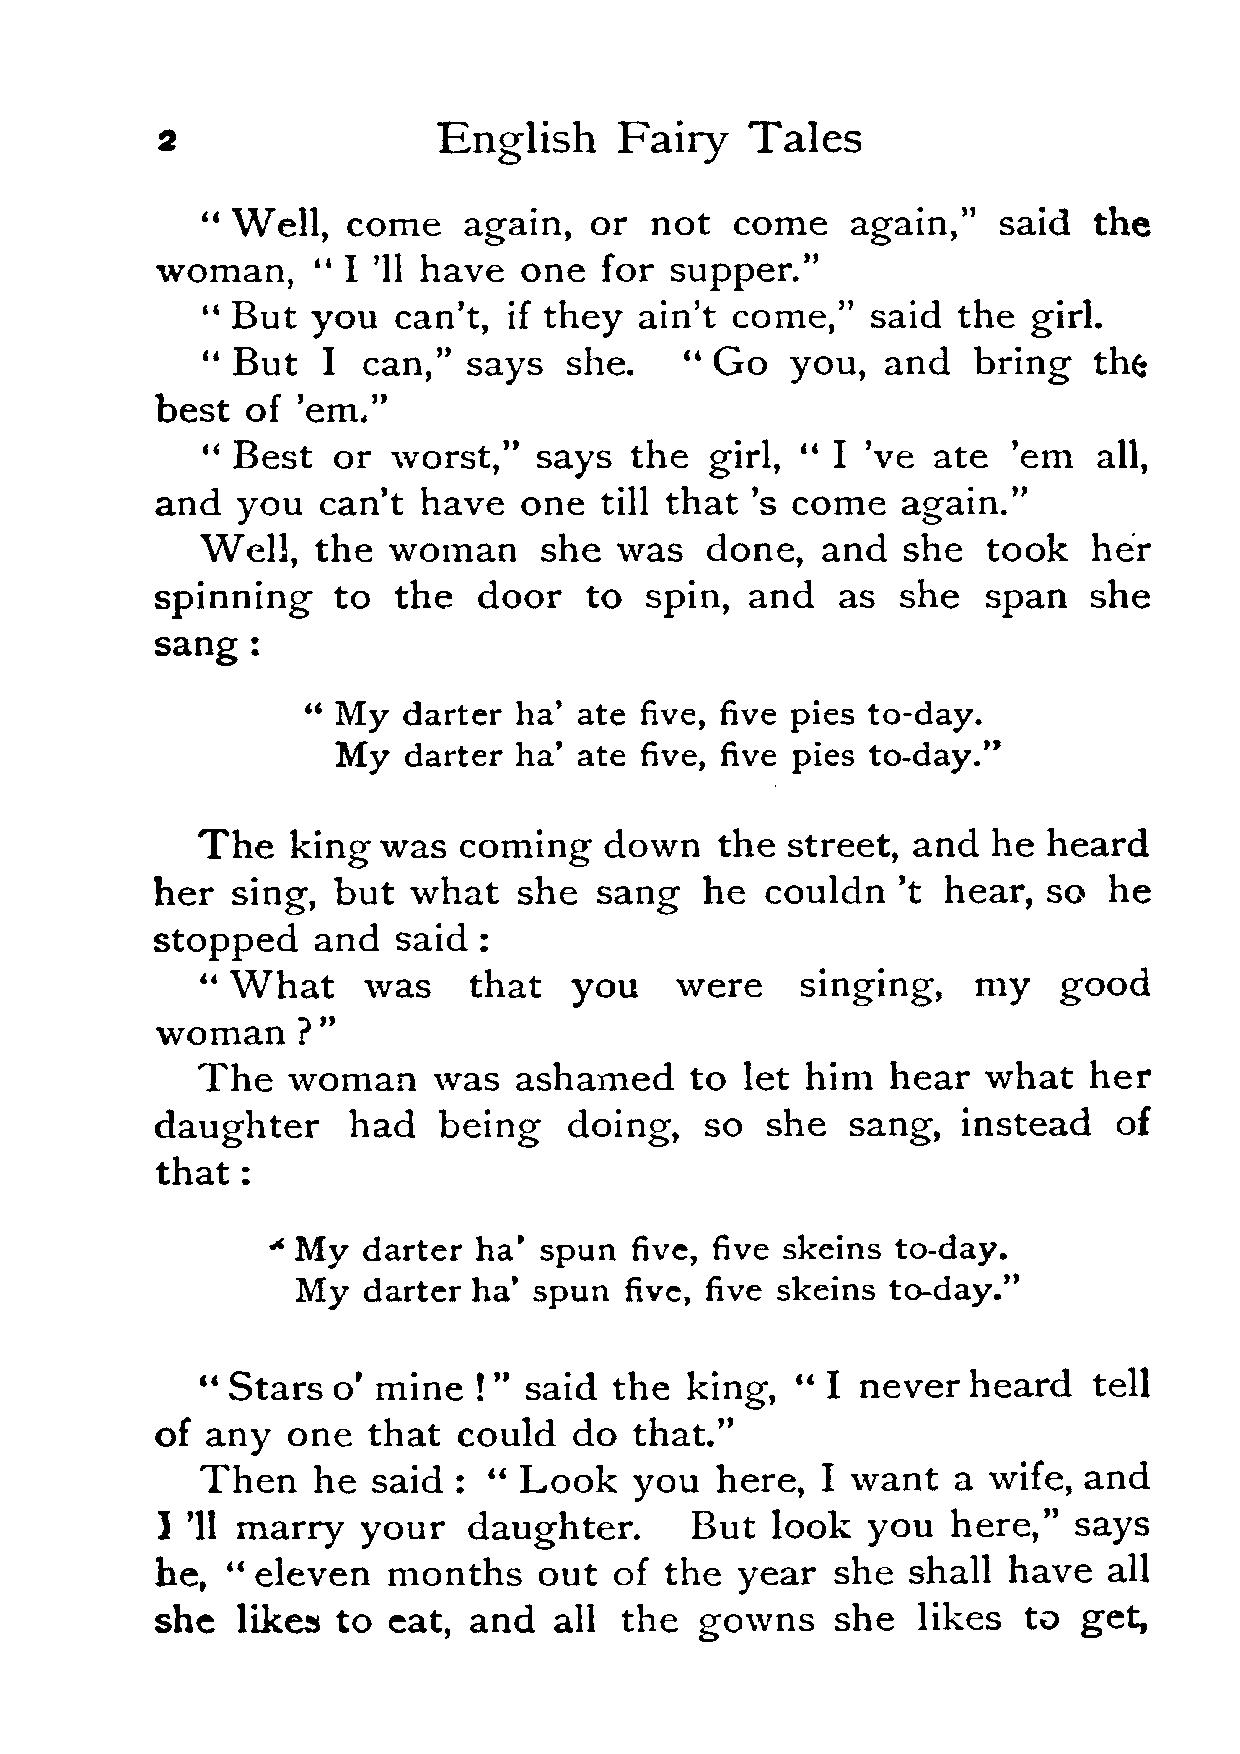content: (150, 200, 1155, 1643)
content_chapter: (425, 119, 866, 168)
content_pagenumber: (148, 119, 188, 158)
